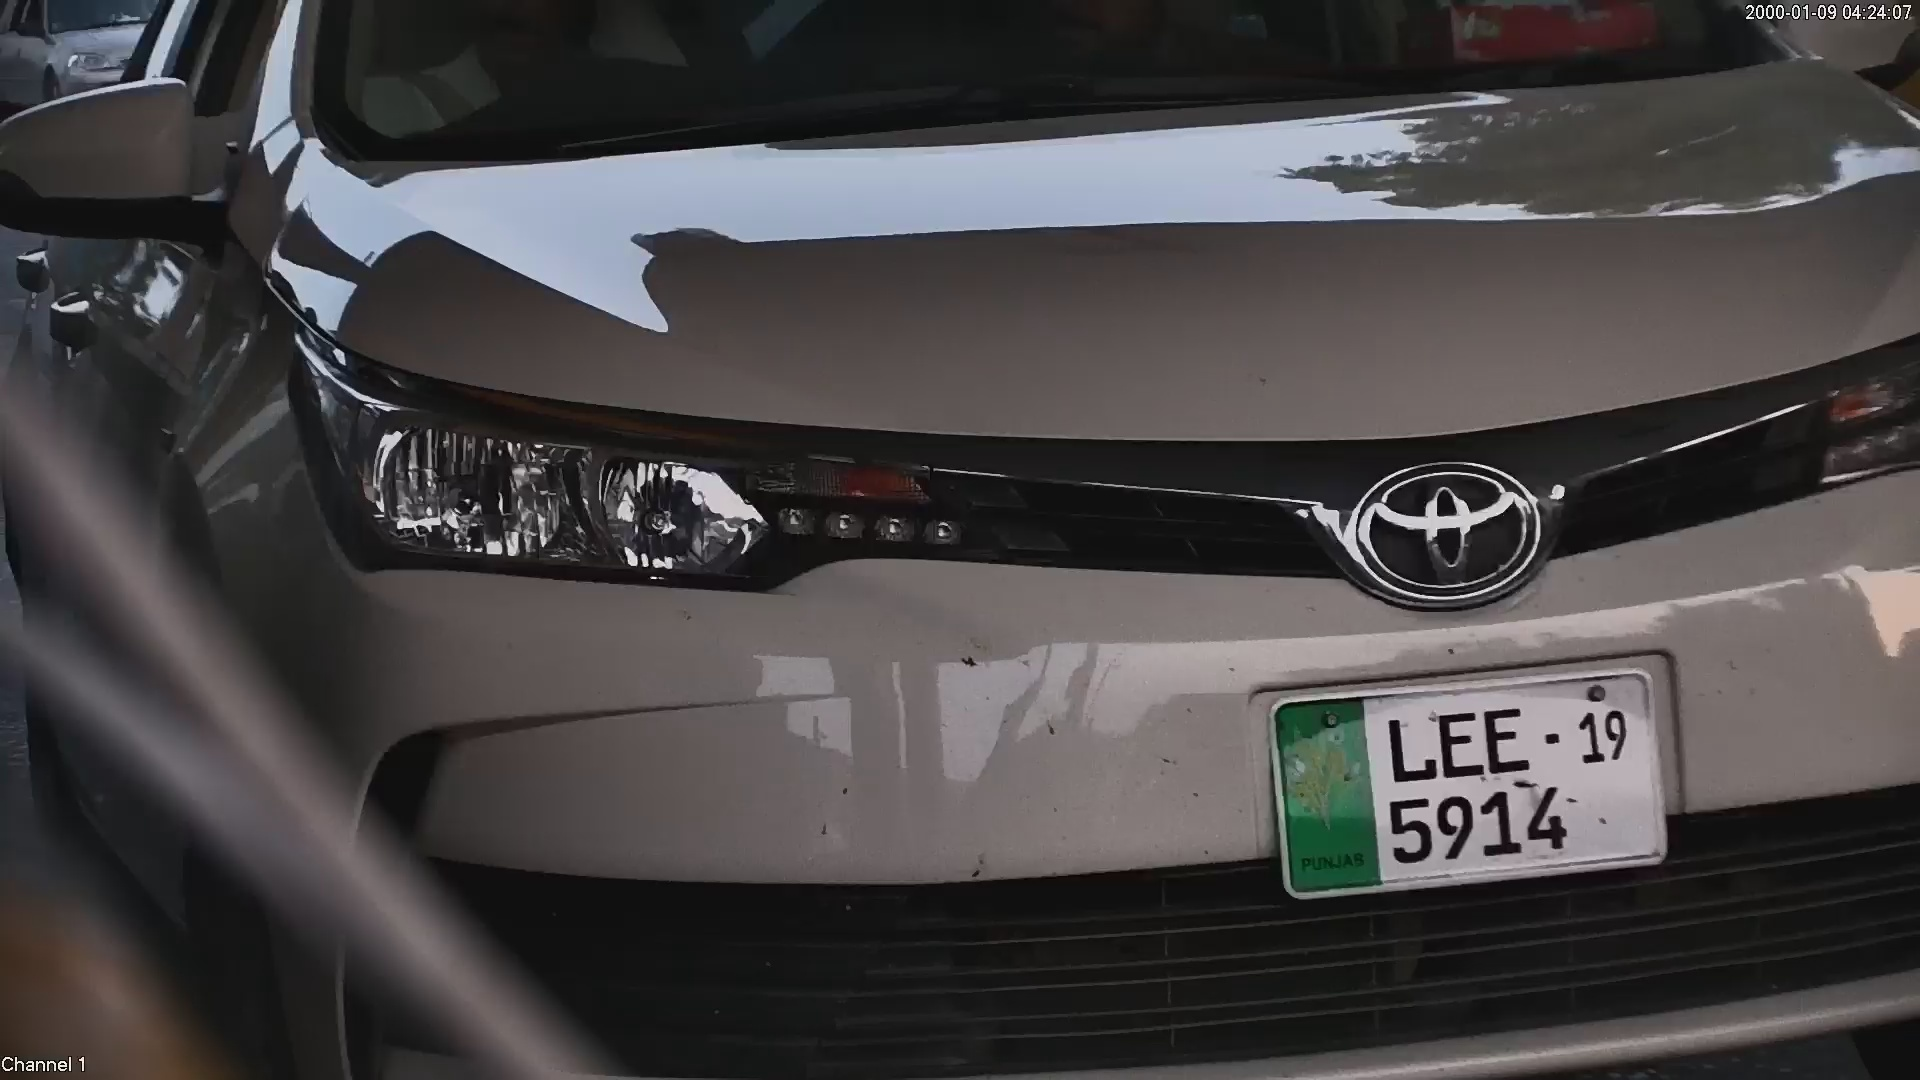Number_Plate: (1265, 664, 1673, 907)
Undefined: (343, 405, 782, 596), (1350, 455, 1537, 592)
